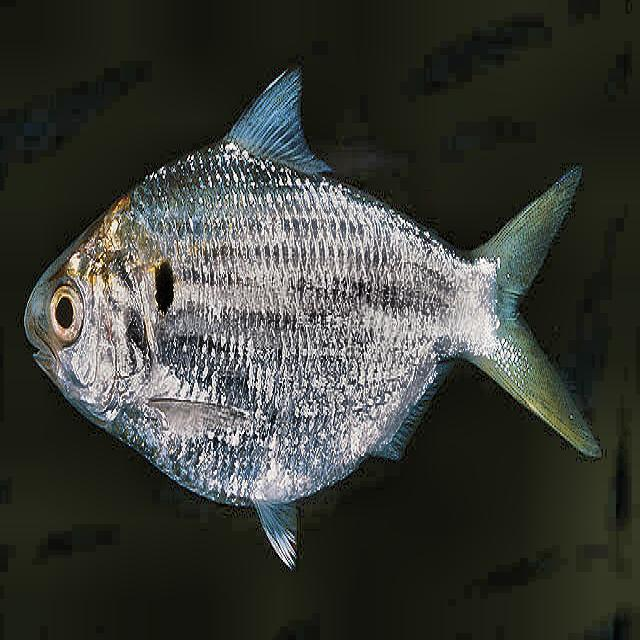fish: (23, 62, 604, 572)
